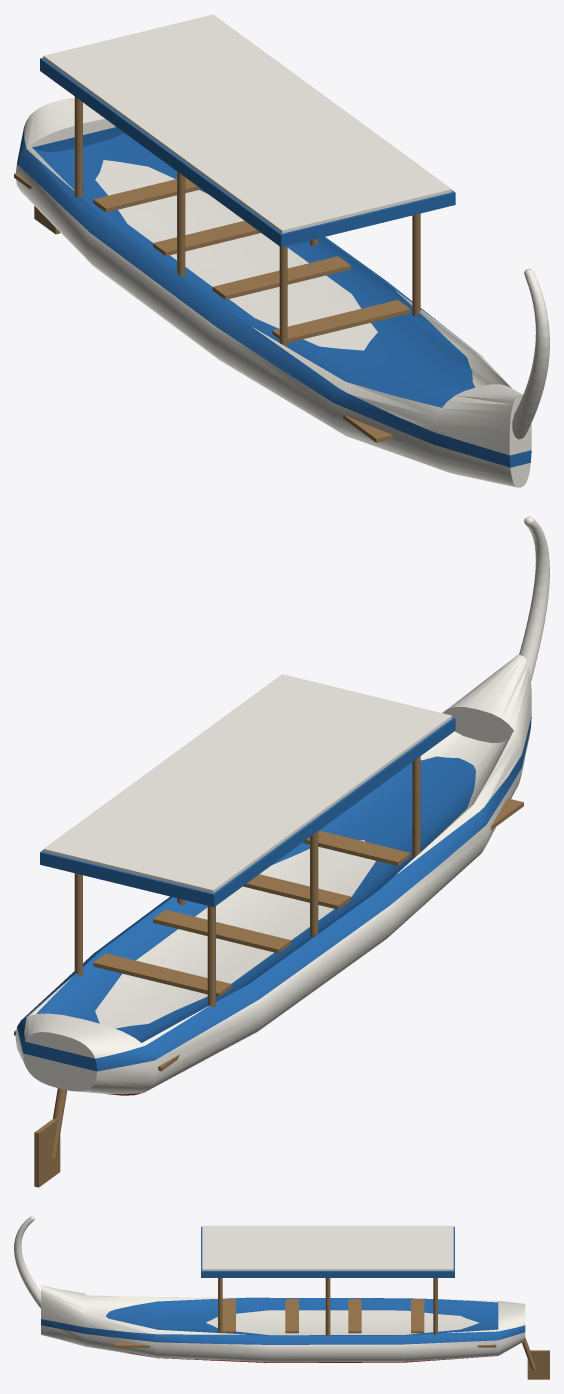
Rendered from dhoni.glb.
3 renders of one model, top to bottom at view 1: azimuth 30°, elevation 25°; view 2: azimuth 150°, elevation 25°; view 3: azimuth 270°, elevation 25°, orthographic. The views are drawn at different scales.
Visible parts, largest first — view 1: roof_11, hull_0, band_1, band_12, hull_4, deck_16, deck_15, deck_14, deck_13, post_9, post_8, post_7 (+2 smaller); view 2: roof_11, hull_0, band_1, band_12, hull_4, deck_13, deck_14, deck_16, deck_15, post_18, post_9, post_6 (+2 smaller); view 3: hull_0, roof_11, band_1, band_12, hull_4, post_18, deck_14, deck_15, deck_13, deck_16, bottom_2, post_10 (+3 smaller).
Boxes of the visible parts, bbox=[...] form: roof_11: bbox=[43, 14, 451, 233]; hull_0: bbox=[16, 98, 531, 487]; band_1: bbox=[17, 125, 531, 467]; band_12: bbox=[40, 58, 455, 247]; hull_4: bbox=[512, 268, 549, 439]; deck_16: bbox=[272, 300, 410, 342]; deck_15: bbox=[212, 256, 350, 299]; deck_14: bbox=[153, 220, 260, 255]; deck_13: bbox=[93, 177, 201, 212]; post_9: bbox=[177, 171, 185, 276]; post_8: bbox=[412, 213, 420, 315]; post_7: bbox=[279, 246, 287, 347]; roof_11: bbox=[43, 674, 451, 893]; hull_0: bbox=[15, 655, 531, 1094]; band_1: bbox=[17, 716, 531, 1071]; band_12: bbox=[40, 717, 455, 906]; hull_4: bbox=[519, 516, 549, 681]; deck_13: bbox=[93, 953, 231, 996]; deck_14: bbox=[153, 909, 291, 953]; deck_16: bbox=[302, 830, 410, 865]; deck_15: bbox=[243, 874, 350, 909]; post_18: bbox=[34, 1118, 60, 1187]; post_9: bbox=[310, 831, 318, 936]; post_6: bbox=[74, 873, 82, 975]; hull_0: bbox=[41, 1285, 525, 1362]; roof_11: bbox=[202, 1225, 453, 1270]; band_1: bbox=[41, 1297, 525, 1344]; band_12: bbox=[201, 1226, 454, 1277]; hull_4: bbox=[14, 1216, 40, 1308]; post_18: bbox=[527, 1350, 549, 1379]; deck_14: bbox=[348, 1299, 361, 1333]; deck_15: bbox=[285, 1299, 298, 1333]; deck_13: bbox=[411, 1299, 424, 1333]; deck_16: bbox=[222, 1299, 235, 1333]; bottom_2: bbox=[122, 1352, 492, 1362]; post_10: bbox=[325, 1278, 330, 1335].
Size of the model in its own units: 2.45 by 4 by 11.95.
